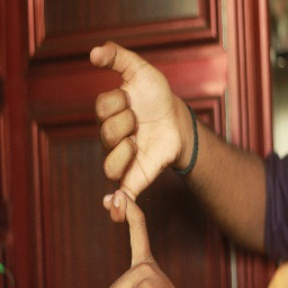S: (69, 33, 194, 280)
